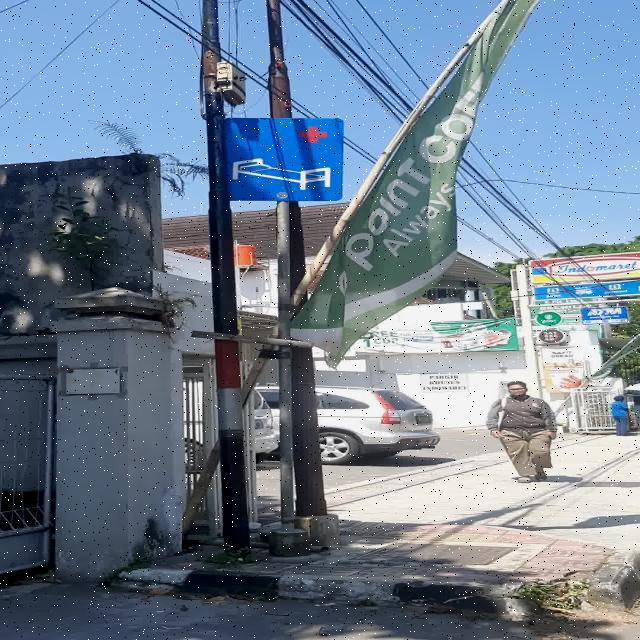Rumah Sakit: (228, 118, 344, 202)
